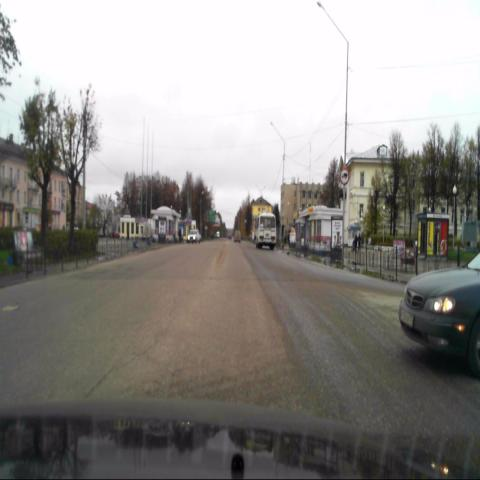3_4_1: (340, 167, 349, 185)
